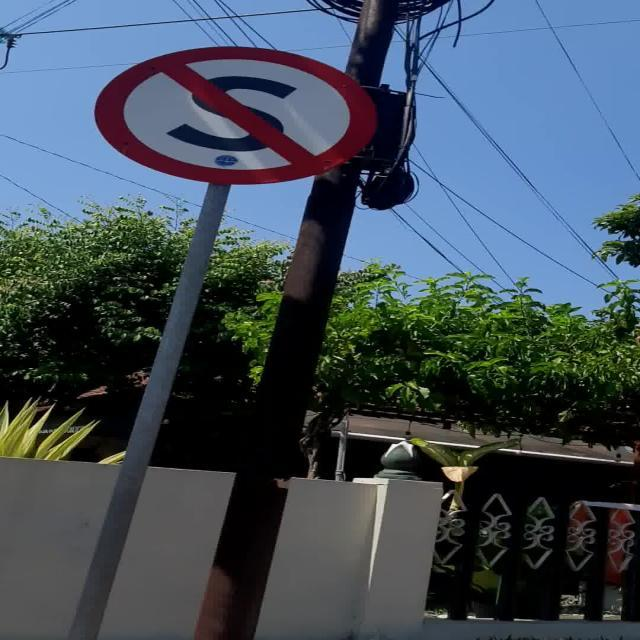Dilarang Berhenti: (94, 46, 377, 185)
